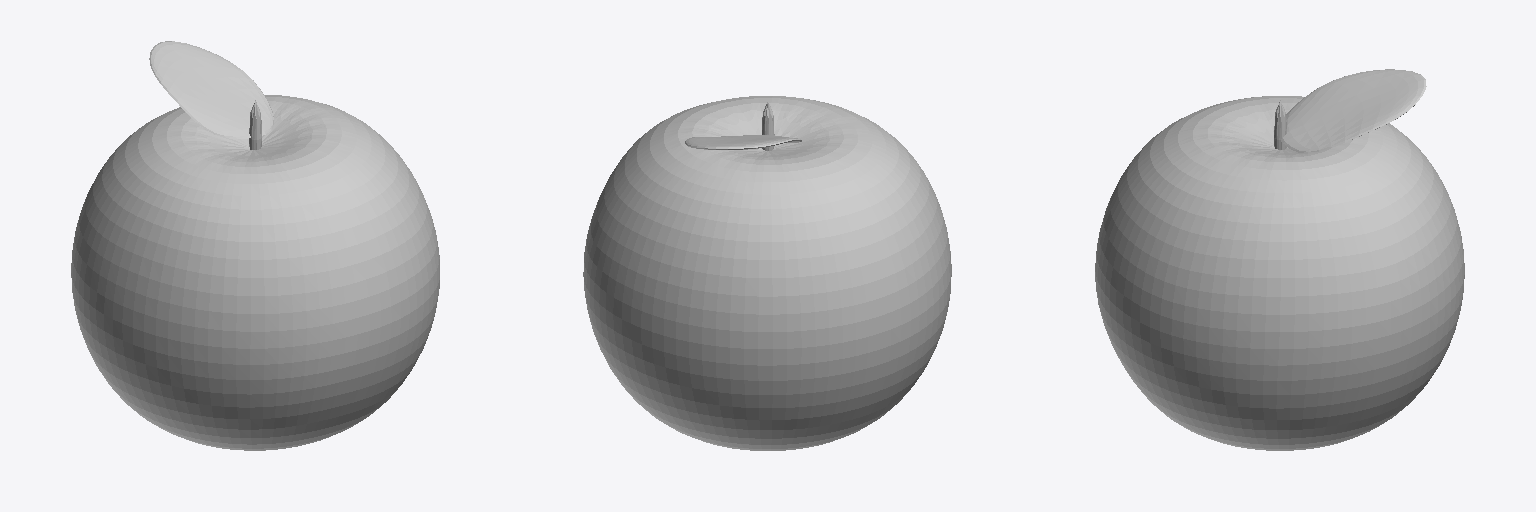
Rendered from orange.obj.
3 views of the same model, side by side, from view 1: azimuth 30°, elevation 25°; view 2: azimuth 150°, elevation 25°; view 3: azimuth 270°, elevation 25° (orthographic).
Visible parts, largest first — view 1: Sphere, Cube; view 2: Sphere, Cube; view 3: Sphere, Cube.
Part boxes in pixels (left/top/right/bottom): Sphere: left=71, top=95, right=439, bottom=450; Cube: left=149, top=41, right=273, bottom=138; Sphere: left=583, top=96, right=951, bottom=450; Cube: left=685, top=135, right=801, bottom=149; Sphere: left=1095, top=96, right=1464, bottom=450; Cube: left=1281, top=69, right=1426, bottom=152.
Bounding box in the file's own units: 0.0958 × 0.0956 × 0.0961.